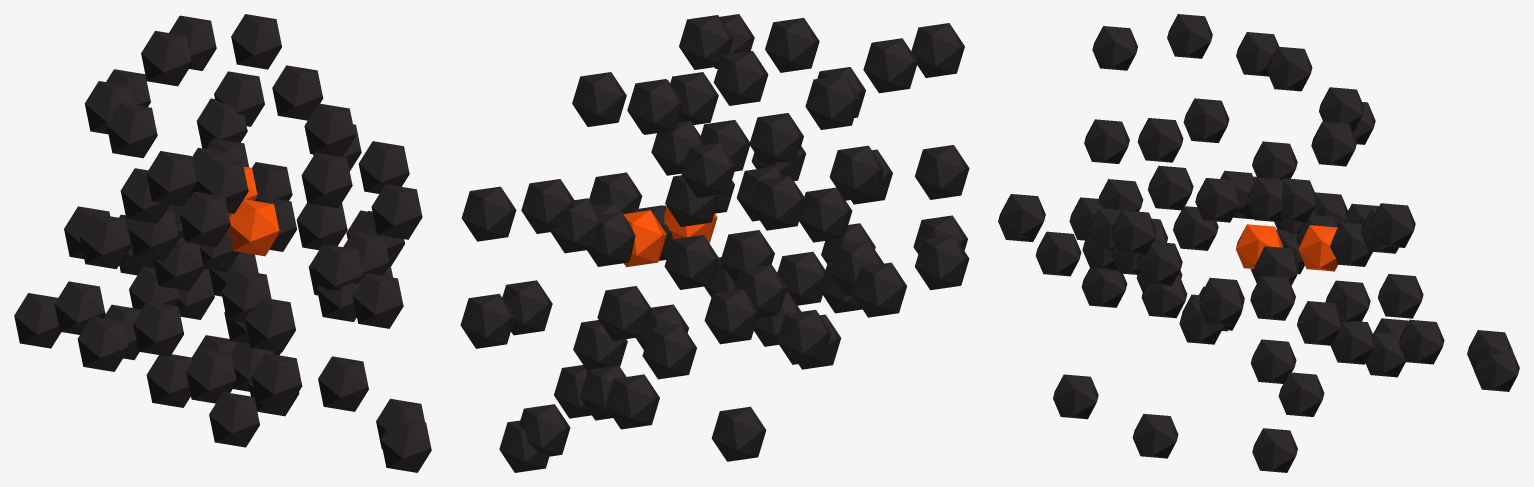
3 views of the same model, side by side, from view 1: azimuth 30°, elevation 25°; view 2: azimuth 150°, elevation 25°; view 3: azimuth 270°, elevation 25° (orthographic). The views are drawn at different scales.
Parts seen in each view (by area): view 1: Smoke, FireTrail; view 2: Smoke, FireTrail; view 3: Smoke, FireTrail.
Boxes of the visible parts, x1,y1,x2,y2 form: Smoke: (14, 14, 431, 472); FireTrail: (228, 166, 279, 256); Smoke: (460, 14, 969, 472); FireTrail: (623, 206, 717, 267); Smoke: (998, 14, 1519, 472); FireTrail: (1236, 224, 1337, 271).
Size of the model in its own units: 46.15 by 43.26 by 58.21.
